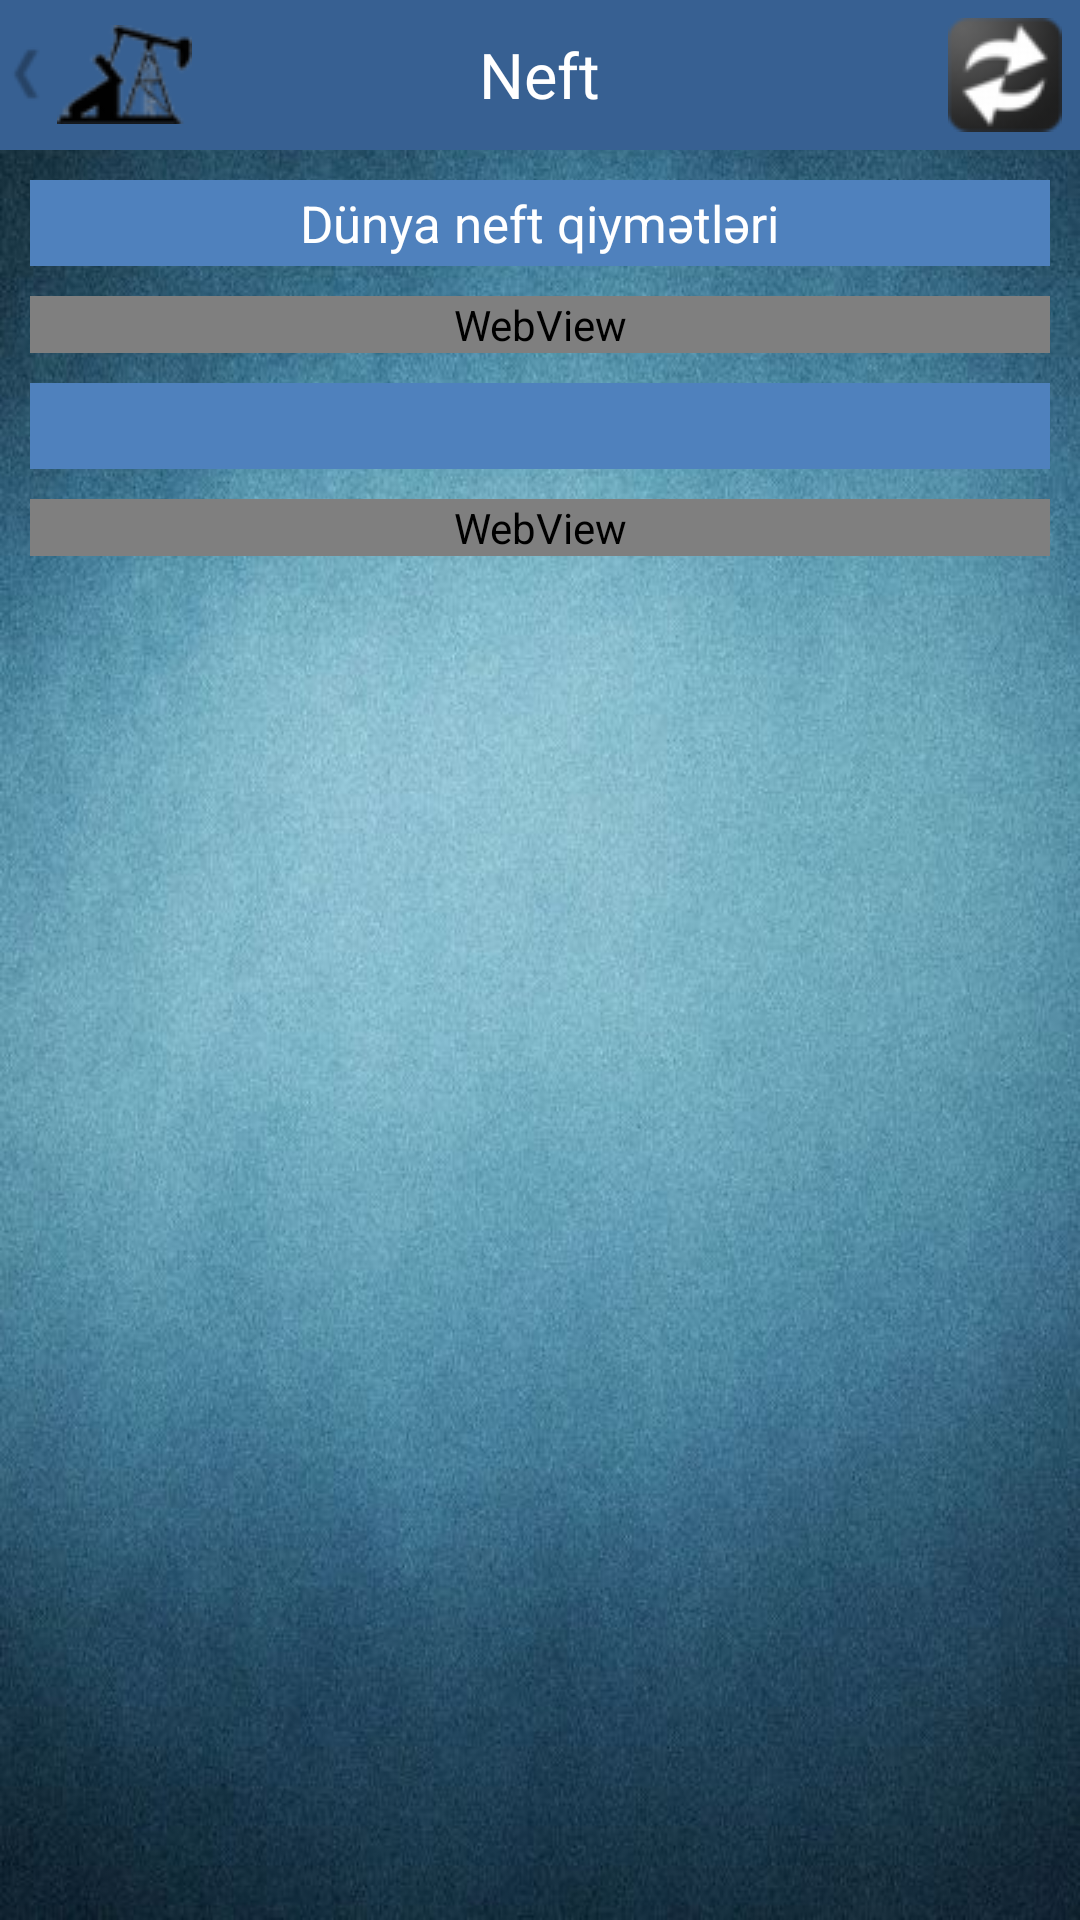

Icons on this 1080px x 1920px Android screen, each with its box as (x1, y1, x2, y2):
arrow: (16, 50, 36, 98)
reload: (948, 18, 1062, 132)
